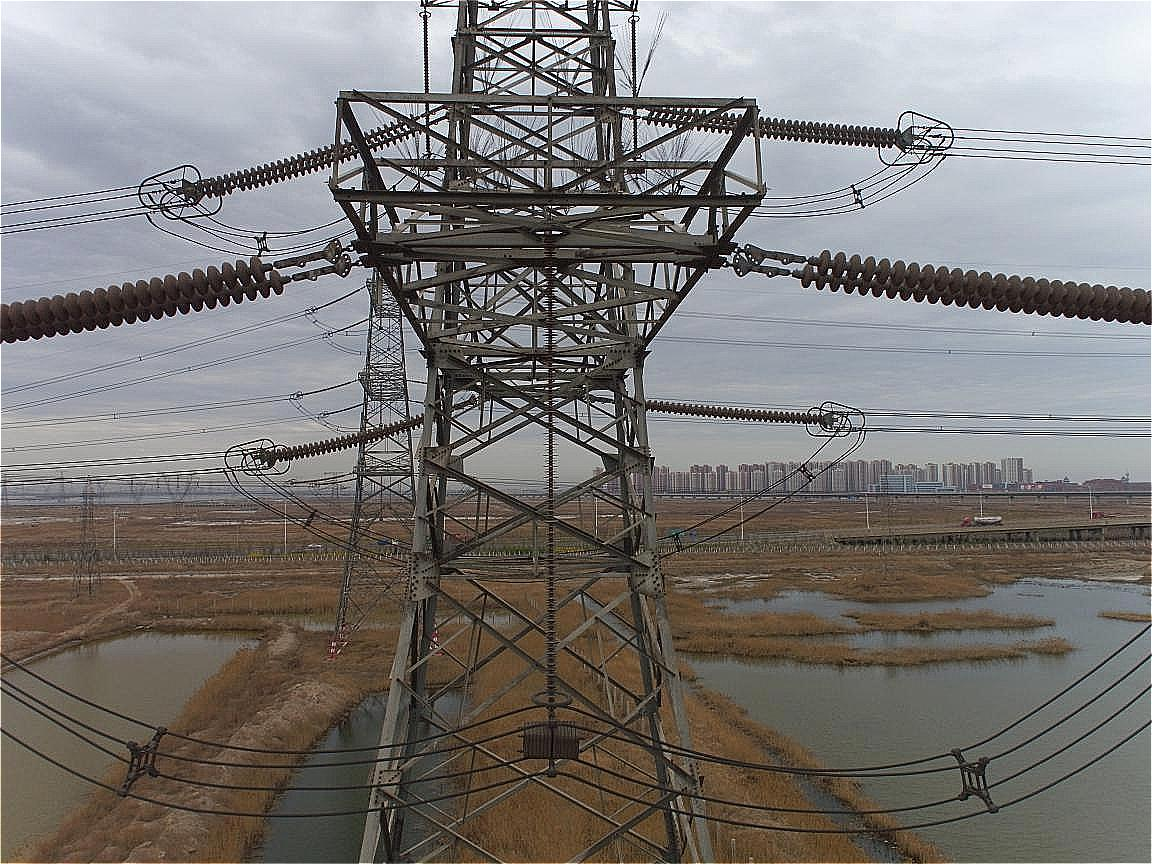insultor1: (1, 237, 293, 354), (803, 246, 1152, 330), (159, 105, 434, 207), (638, 94, 944, 162), (616, 386, 859, 452), (238, 403, 491, 466)
